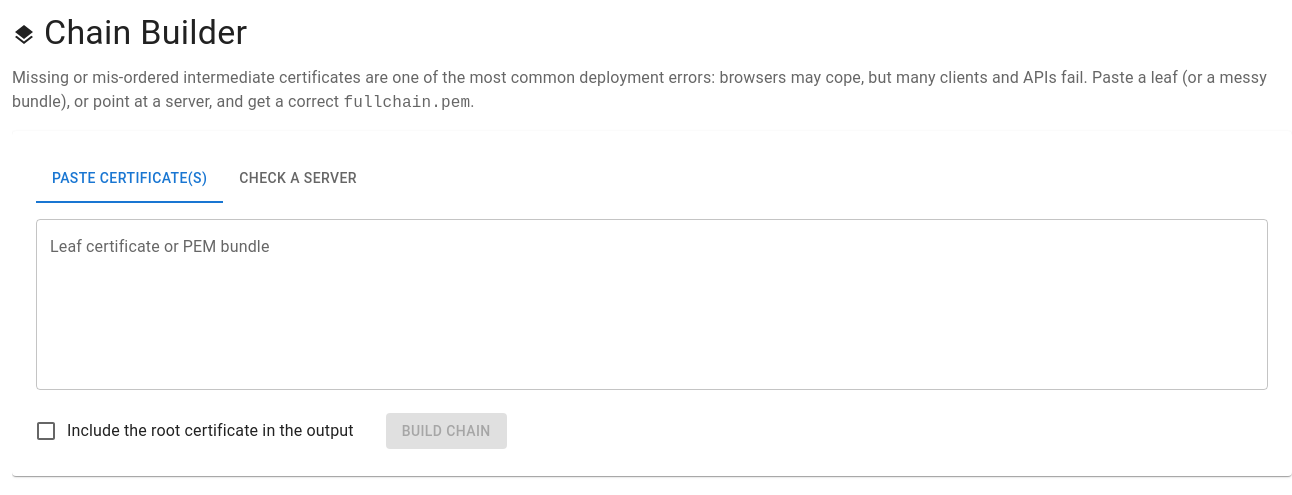
Test: server mode sends the hostname and surfaces errors
Click the tab "Check a server" at (298, 179), box [223,155,373,203]
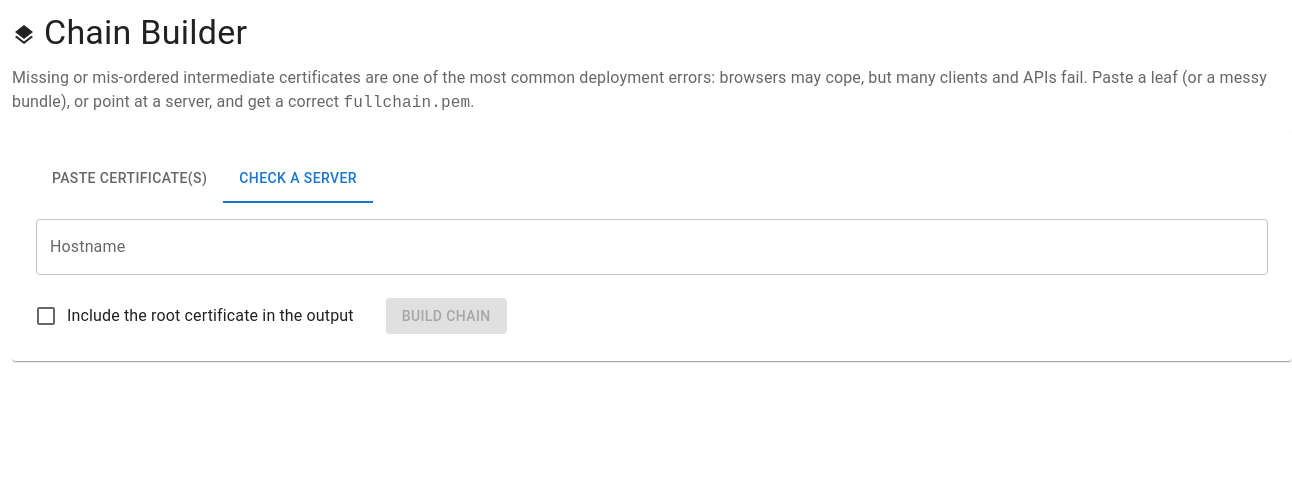
Type " 127.0.0.1 " into the field labelled "Hostname" at (652, 247), box [36,219,1268,275]
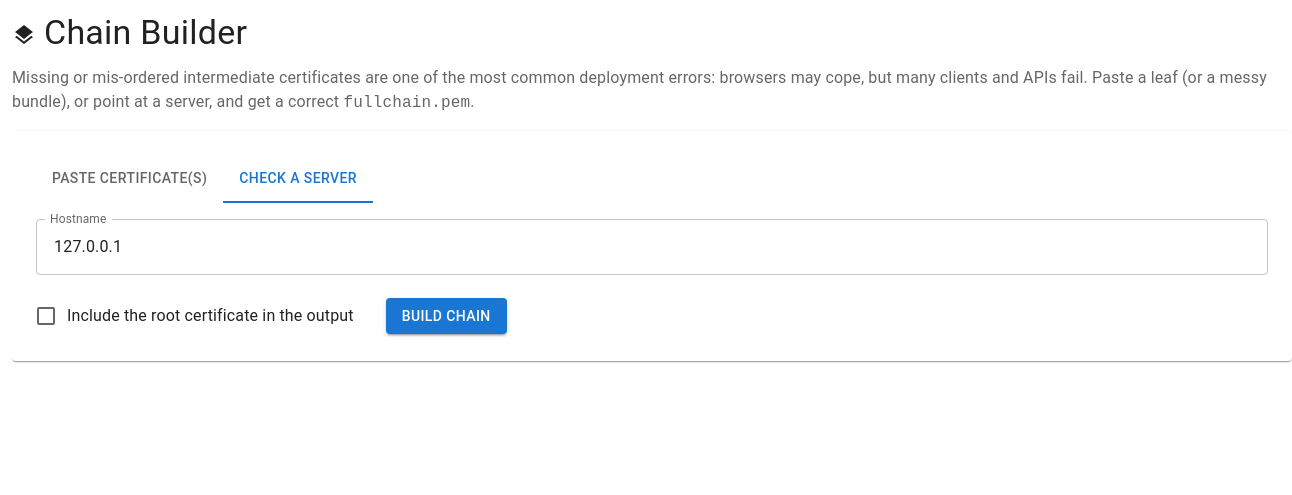
Click the button "Build chain" at (446, 316), box [386,298,507,334]
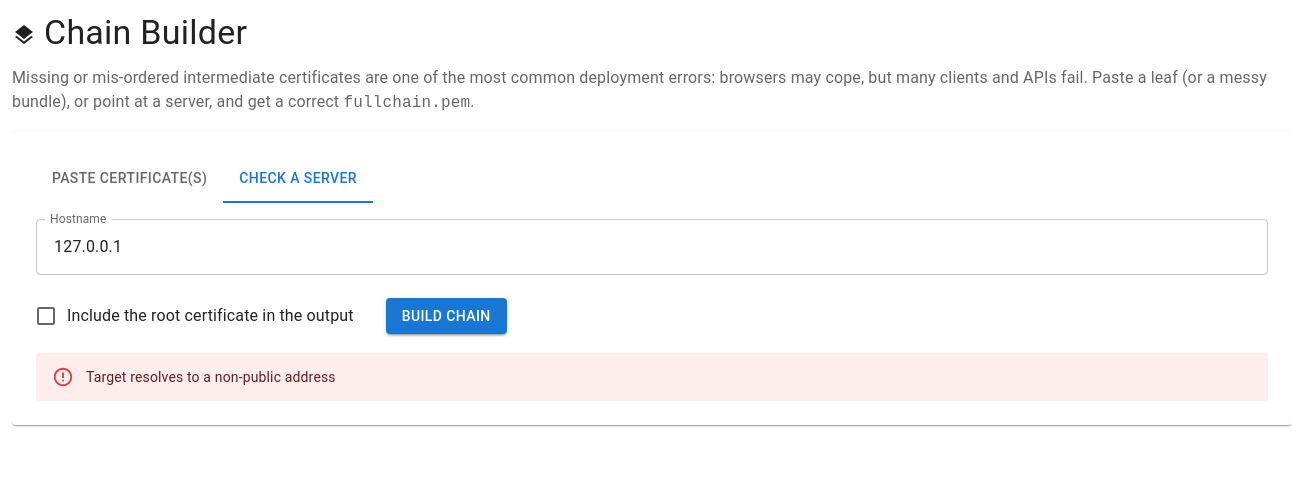
Now the text "Target resolves to a non-public address" is shown, box [86,369,336,385]
